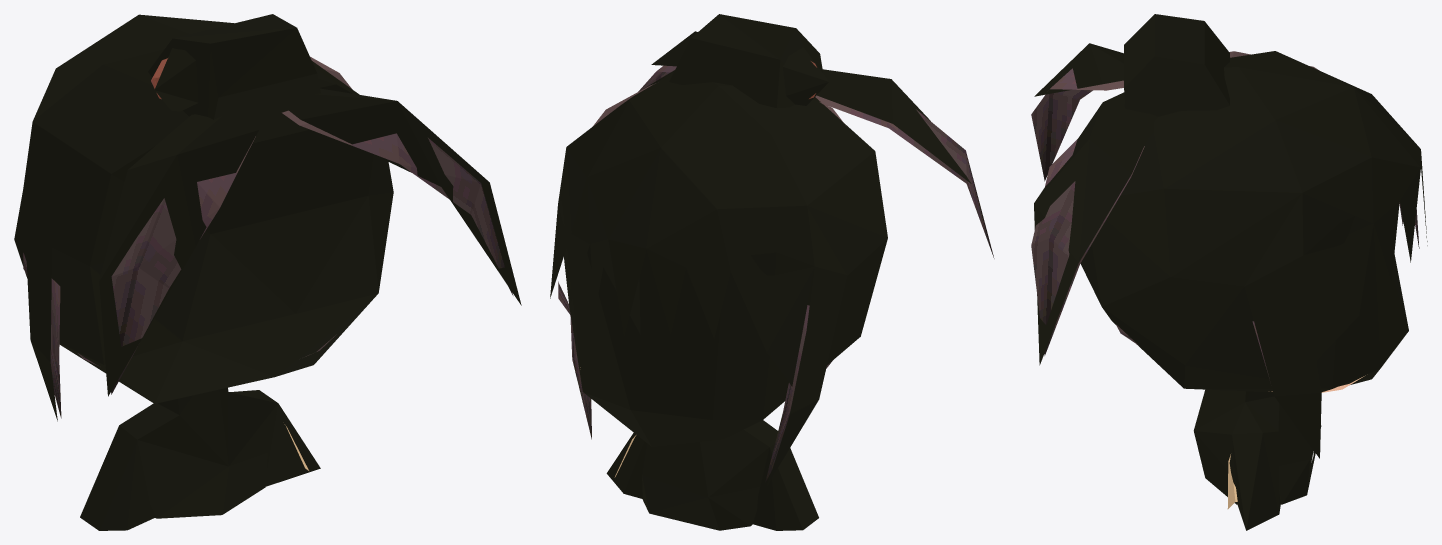
Rendered from ps2_save-icons_maneasugorokukabukoro.glb.
3 views of the same model, side by side, from view 1: azimuth 30°, elevation 25°; view 2: azimuth 150°, elevation 25°; view 3: azimuth 270°, elevation 25° (orthographic). The views are drawn at different scales.
Parts seen in each view (by area): view 1: icon1.ico; view 2: icon1.ico; view 3: icon1.ico.
Part boxes in pixels (x1=…): icon1.ico: x1=14, y1=14, x2=521, y2=530; icon1.ico: x1=550, y1=14, x2=994, y2=530; icon1.ico: x1=1031, y1=14, x2=1427, y2=530.
Size of the model in its own units: 3.79 by 4.4 by 3.54.
1 material, 1 textured.
